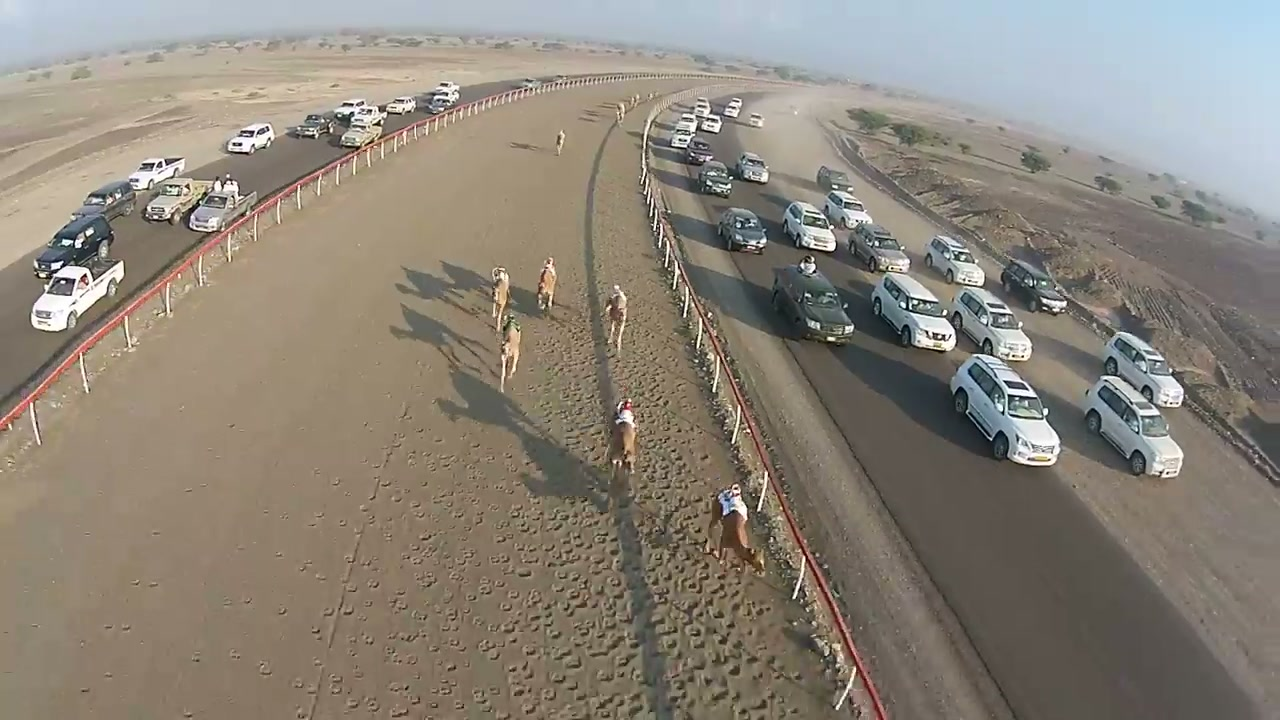animal_foot_print: (431, 402, 779, 709)
